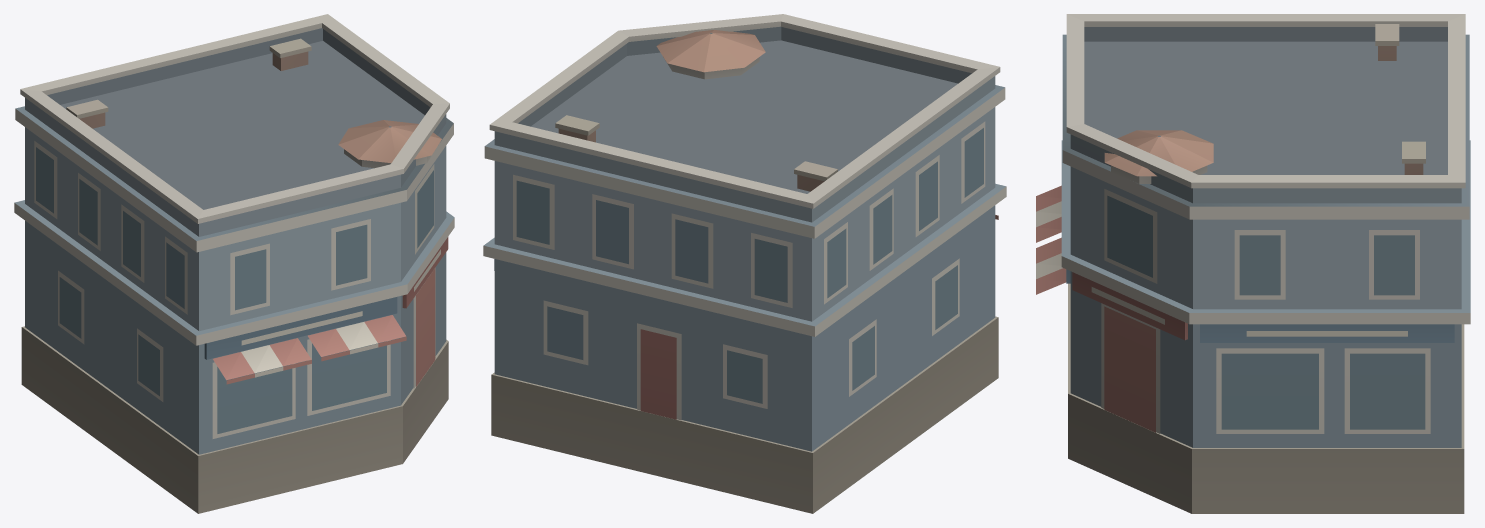
The model's file is corner.lod2.glb.
3 renders of one model, left to right at view 1: azimuth 30°, elevation 25°; view 2: azimuth 150°, elevation 25°; view 3: azimuth 270°, elevation 25°, orthographic. The views are drawn at different scales.
Size of the model in its own units: 9.24 by 8.42 by 9.84.
